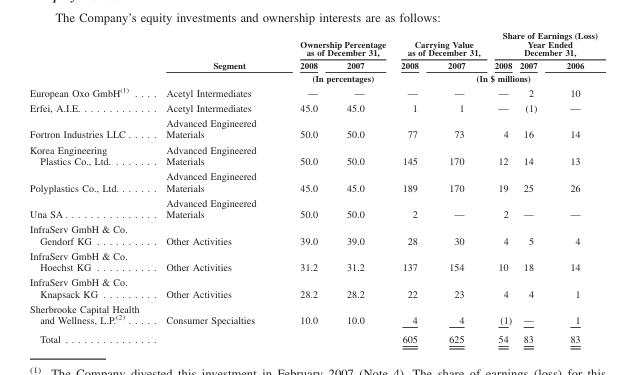table: (29, 29, 596, 344)
table column: (151, 29, 277, 344), (29, 29, 151, 344), (331, 29, 392, 344), (277, 29, 331, 344), (432, 29, 486, 344), (551, 29, 596, 344), (392, 29, 432, 344), (515, 29, 551, 344), (486, 29, 515, 344)
table column header: (29, 29, 596, 83)
table row: (29, 29, 596, 58), (29, 300, 596, 329), (29, 247, 596, 274), (29, 221, 596, 247), (29, 274, 596, 300), (29, 83, 596, 99), (29, 99, 596, 115), (29, 329, 596, 344), (29, 154, 596, 168), (29, 207, 596, 221), (29, 58, 596, 71), (29, 115, 596, 128), (29, 128, 596, 141), (29, 141, 596, 154), (29, 168, 596, 181), (29, 181, 596, 194), (29, 194, 596, 207), (29, 71, 596, 83)
table spanning cell: (151, 29, 277, 83), (29, 99, 151, 128), (277, 29, 392, 58), (29, 154, 151, 181), (486, 29, 596, 58), (29, 181, 151, 207), (392, 29, 486, 58), (392, 71, 596, 83), (277, 71, 392, 83)
